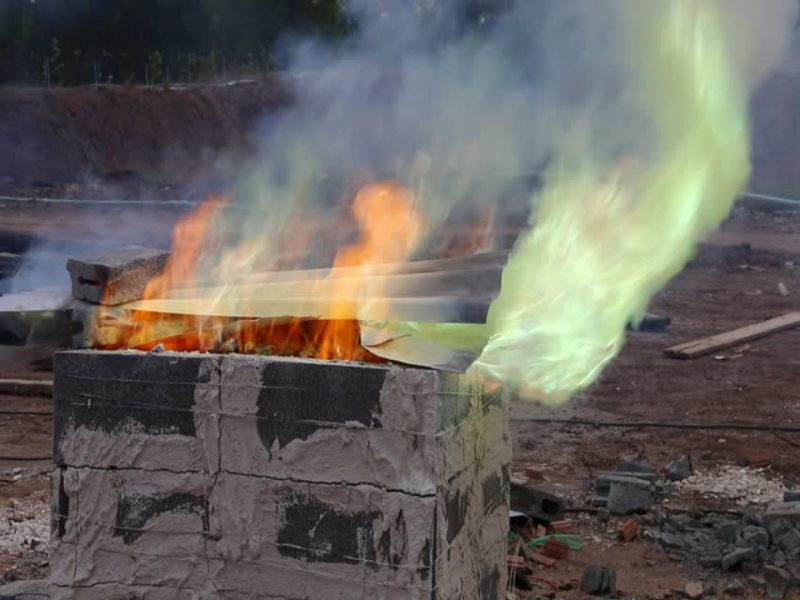smoke: (287, 41, 659, 313)
